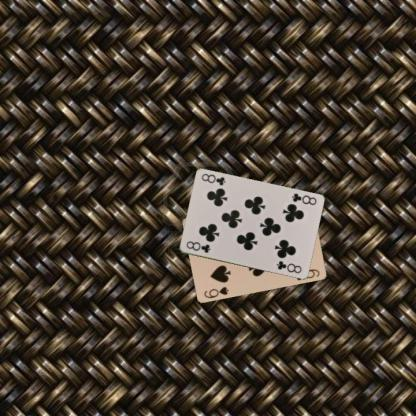6s: (202, 284, 230, 299)
8c: (288, 191, 318, 206), (183, 239, 212, 254)
